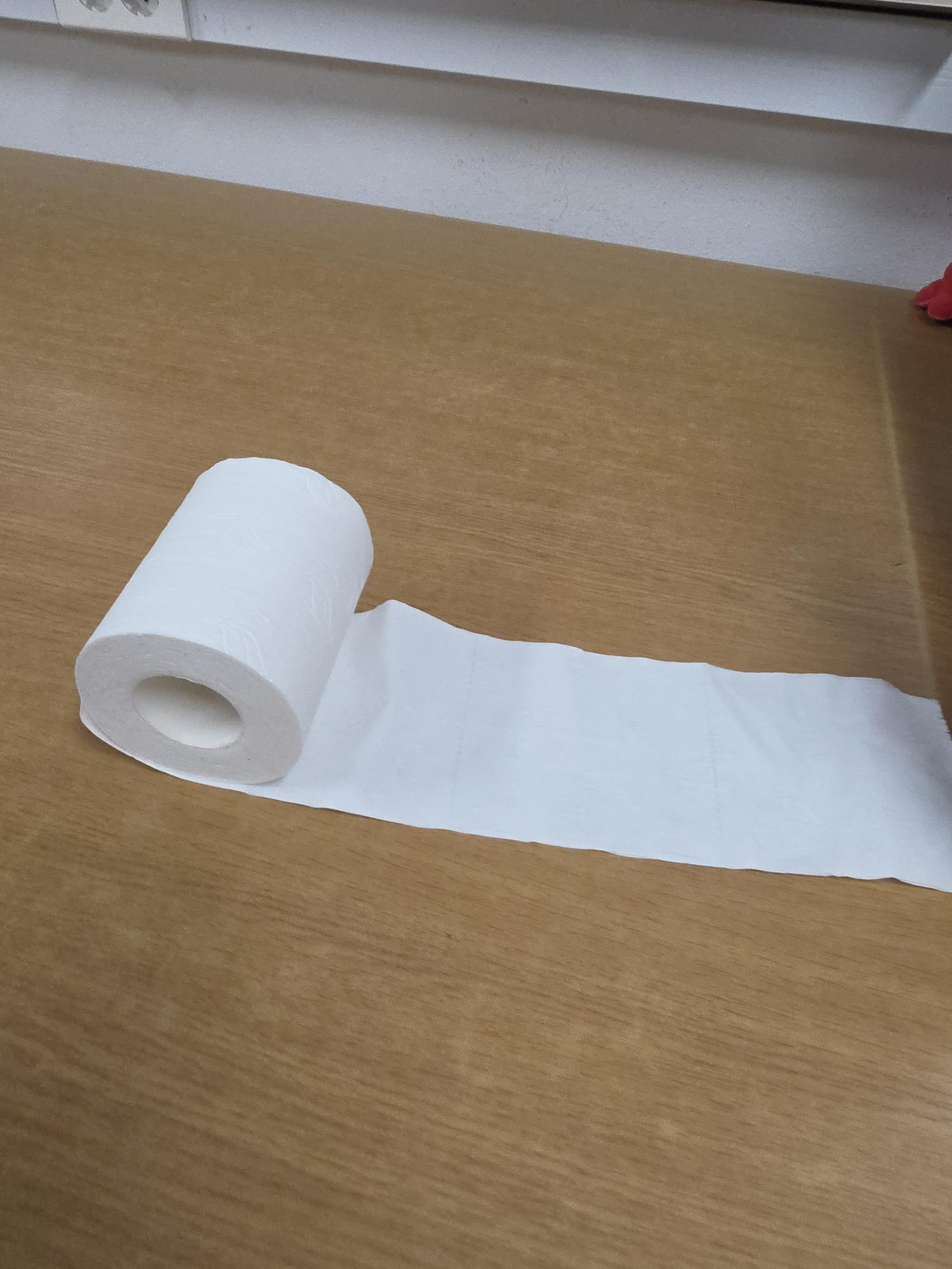tissue: (75, 457, 951, 892)
